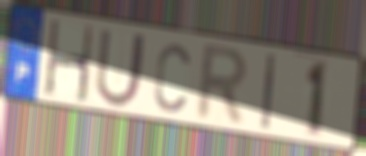1: (304, 57, 334, 143)
C: (152, 40, 192, 115)
H: (43, 18, 96, 106)
I: (259, 51, 278, 133)
R: (192, 42, 251, 130)
U: (93, 25, 150, 110)
